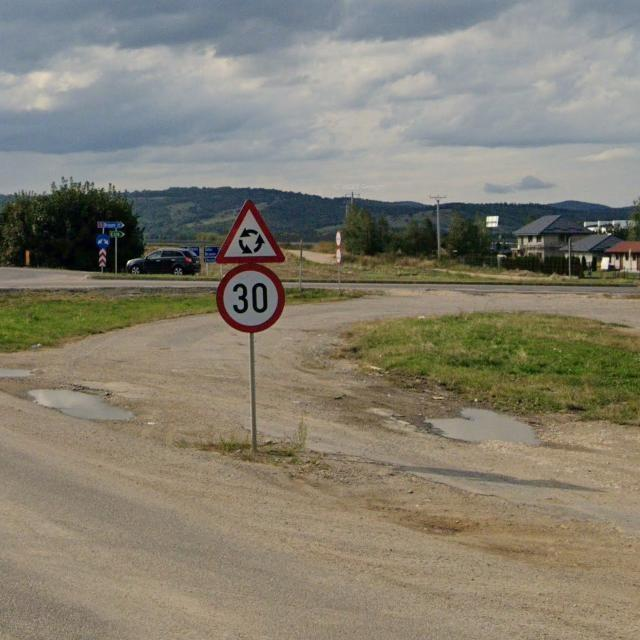forb_speed_over_30: (216, 266, 285, 334)
